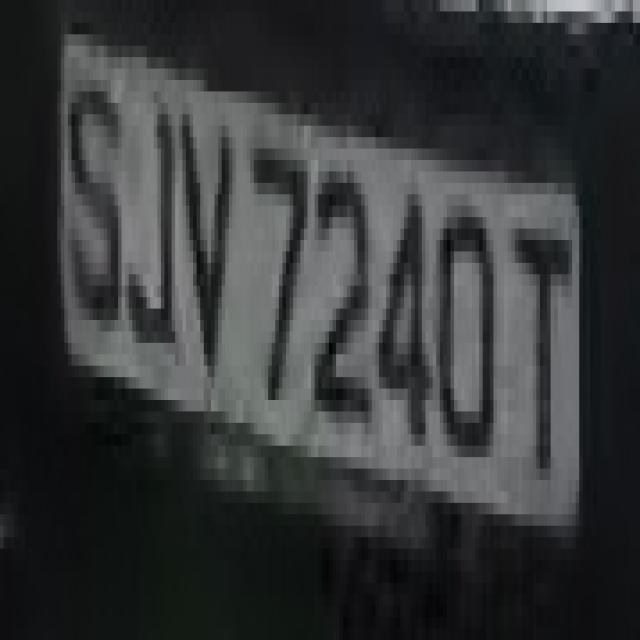0: (440, 148, 504, 526)
2: (311, 126, 379, 491)
4: (382, 148, 440, 526)
7: (232, 92, 308, 434)
J: (125, 46, 190, 377)
S: (64, 34, 125, 377)
T: (504, 148, 583, 492)
V: (179, 46, 243, 400)
